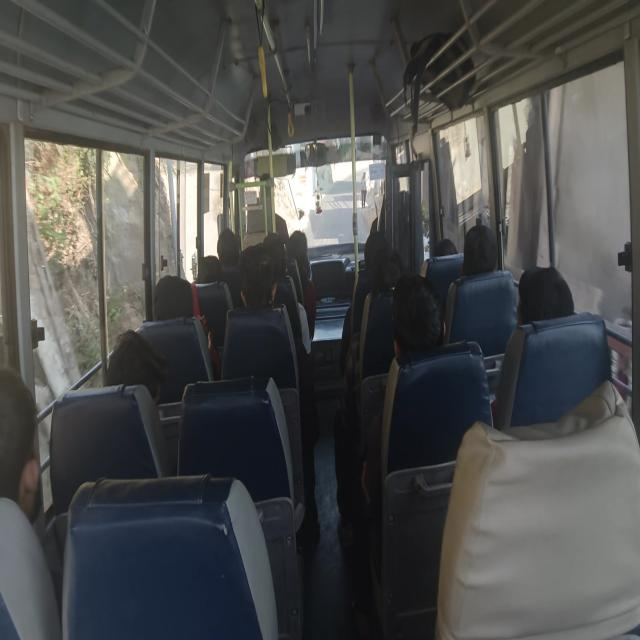person: (0, 365, 55, 531), (387, 271, 451, 372), (509, 259, 586, 331), (105, 328, 168, 402), (149, 265, 200, 331), (459, 209, 502, 278), (234, 238, 273, 314), (366, 239, 409, 298), (264, 234, 292, 272), (424, 232, 459, 262), (360, 226, 390, 260), (198, 248, 224, 286), (216, 222, 242, 258), (378, 174, 409, 202), (257, 171, 283, 203), (289, 227, 311, 263)
